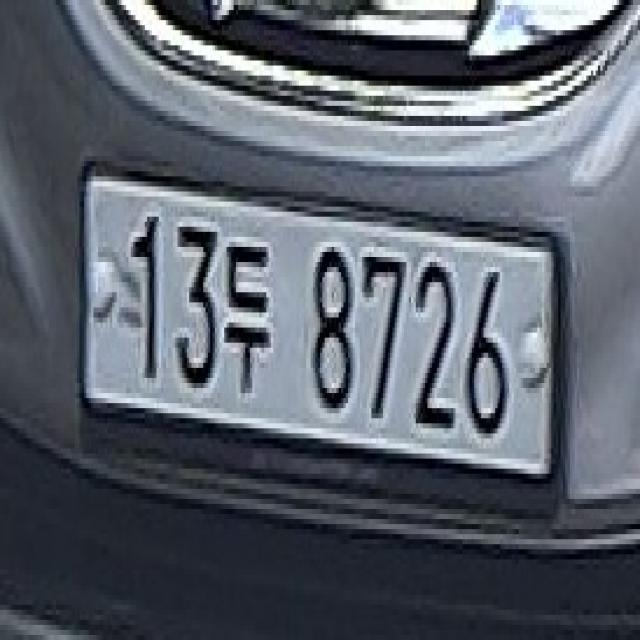1: (128, 218, 164, 392)
2: (414, 246, 462, 436)
3: (173, 219, 220, 397)
6: (464, 258, 516, 444)
7: (361, 252, 409, 428)
8: (307, 236, 357, 424)
du: (224, 226, 280, 410)
license_plate: (87, 182, 558, 475)
